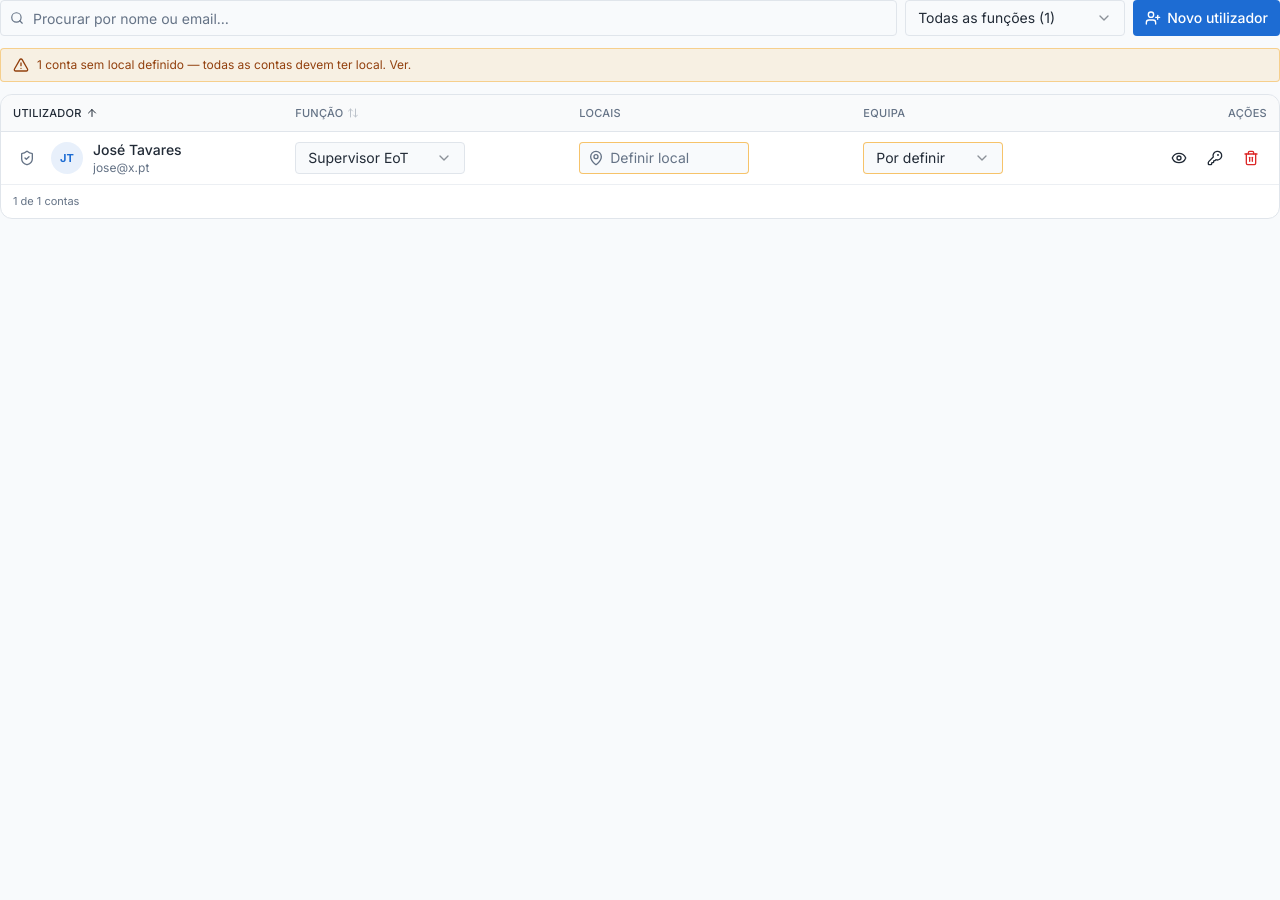
Scenario: Repor password › mudar a password depois do aviso anula a confirmação (tem de confirmar de novo)
Click the button titled "Repor password" at x=1215, y=158, box [1199,142,1231,174]
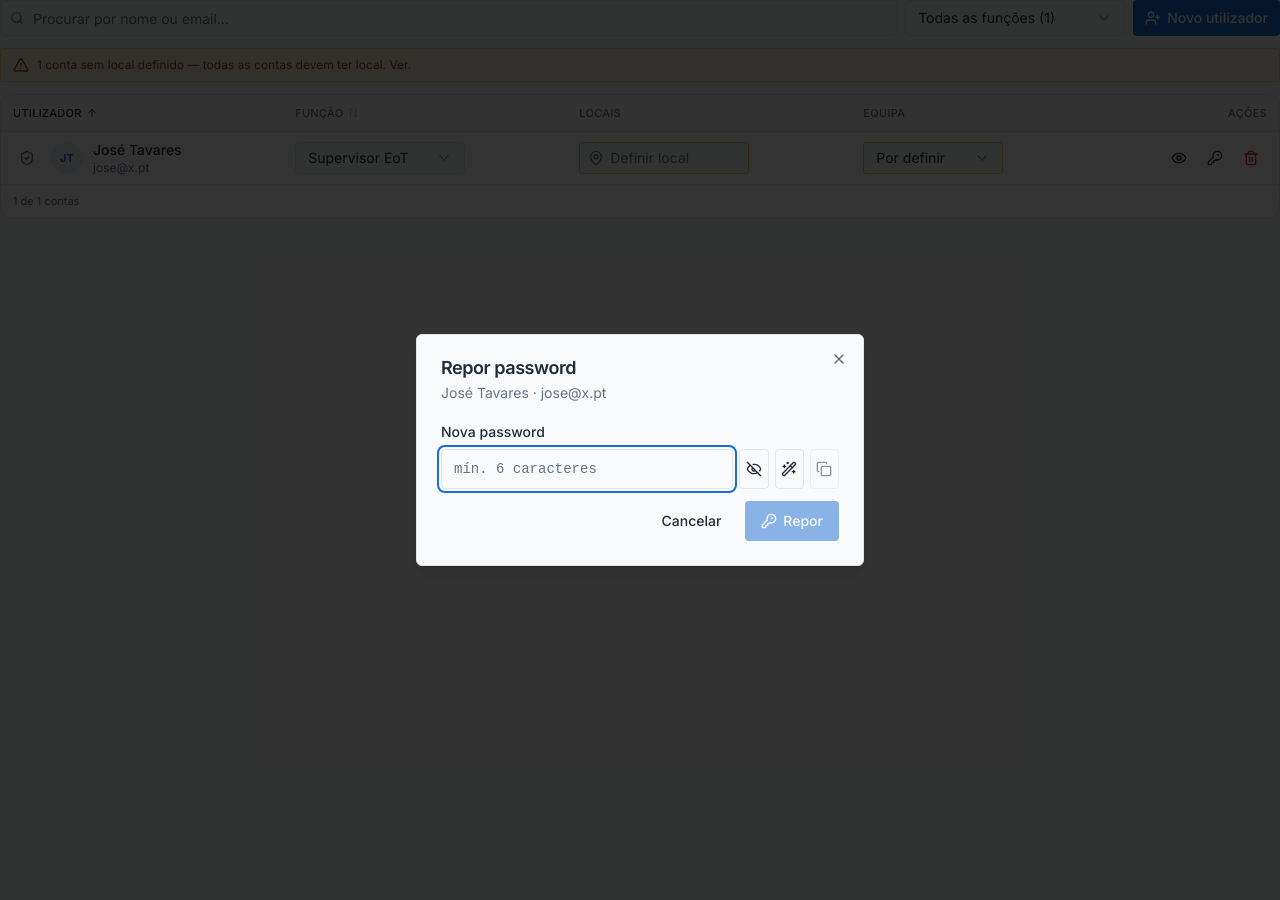
Type "Nova-pass-1" into the field labelled "Nova password" at x=587, y=469, box [441,449,733,489]
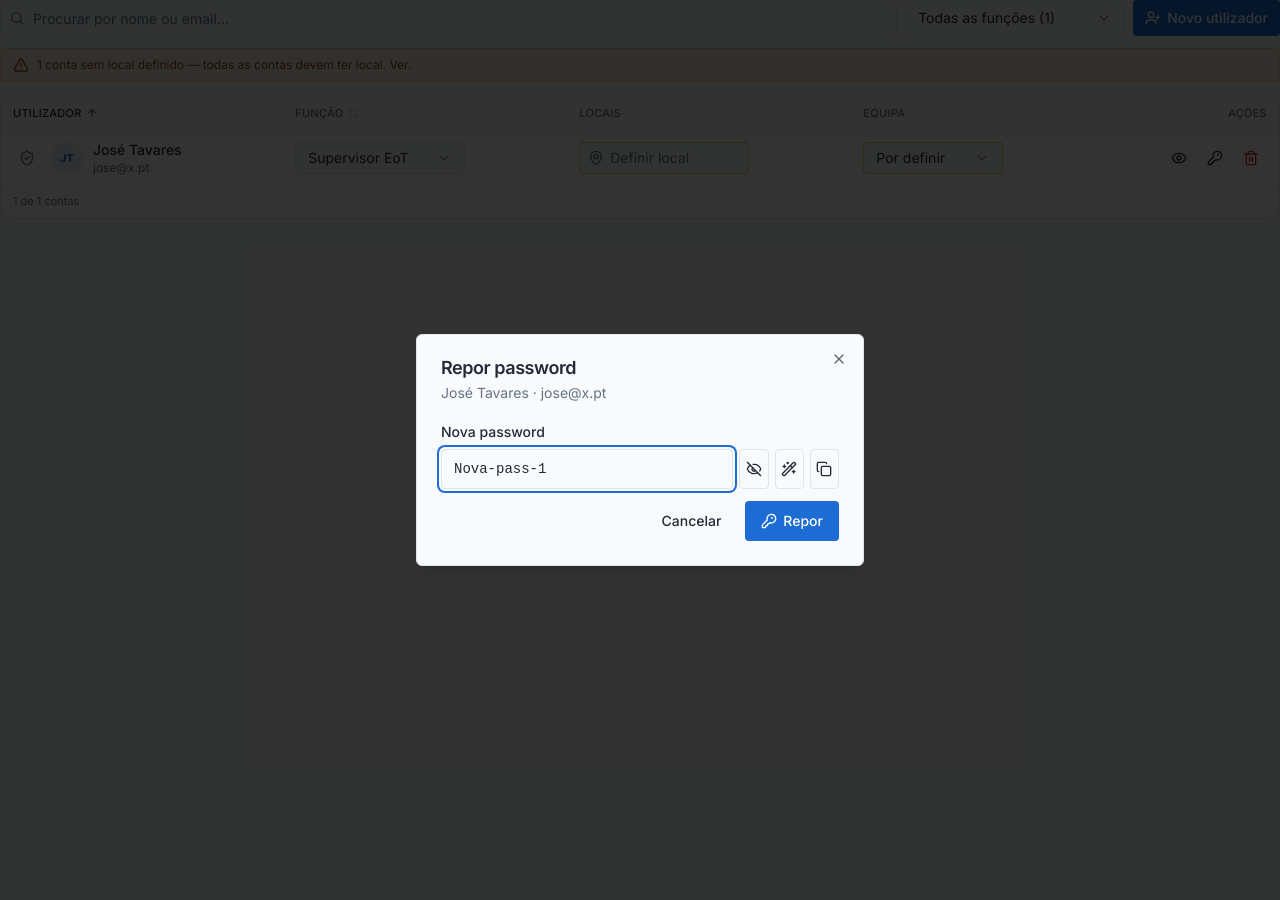
Click the button "Repor" at x=792, y=521, box [745,501,839,541]
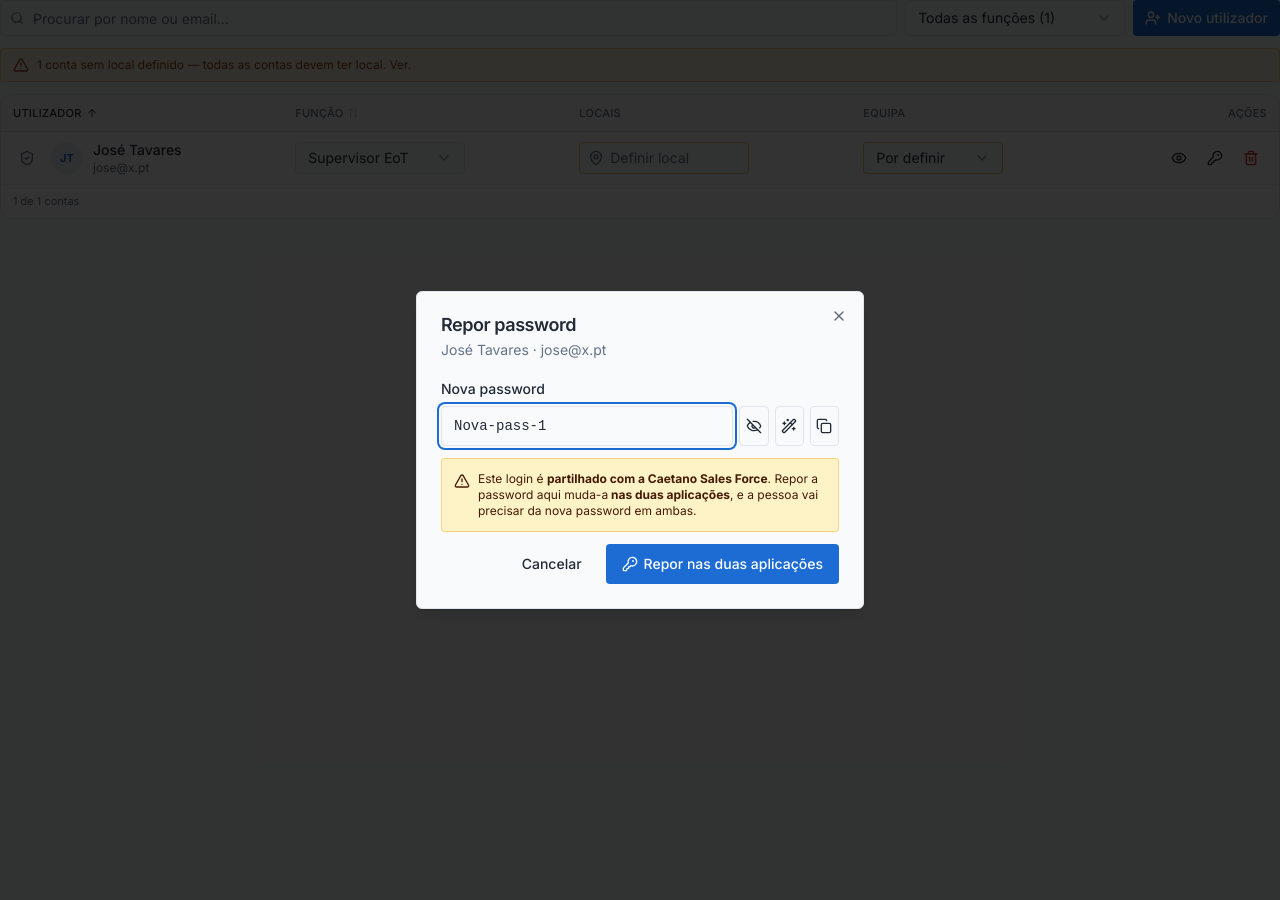
Now the message is shown, box [441,458,839,532]
Replace the text in the field labelled "Nova password" with "Outra-pass-2" at x=587, y=426, box [441,406,733,446]
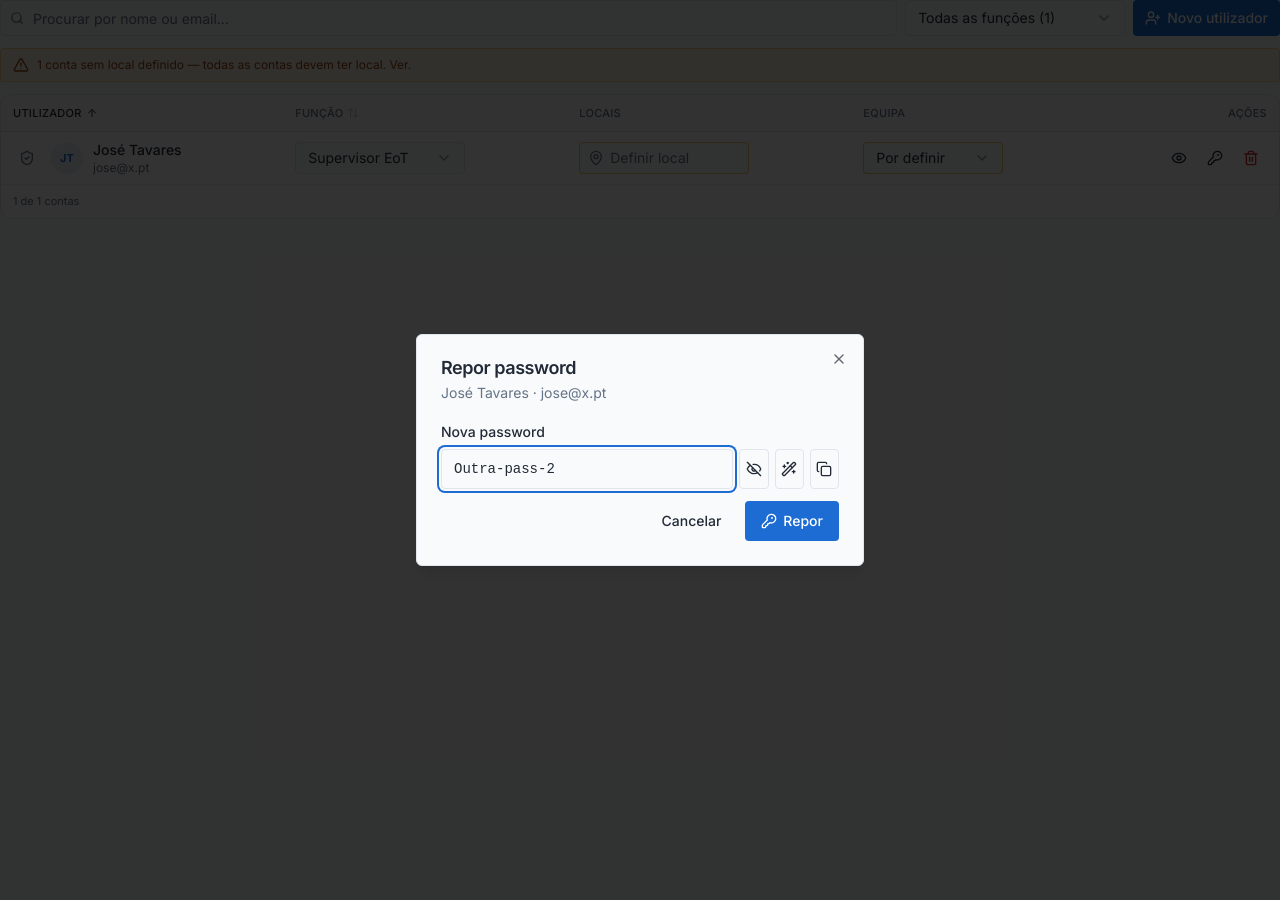
Now the button "Repor" is shown, box [745,501,839,541]
Now the message is gone
